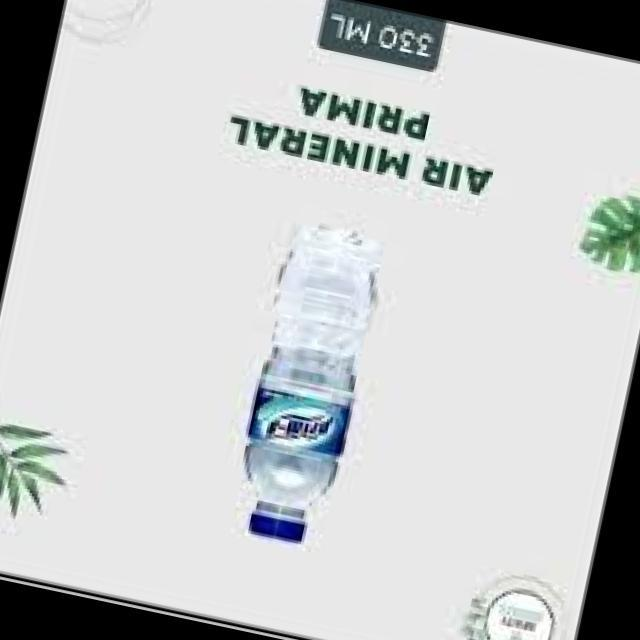good: (198, 213, 404, 563)
